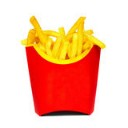frenchfries: (18, 14, 107, 57)
